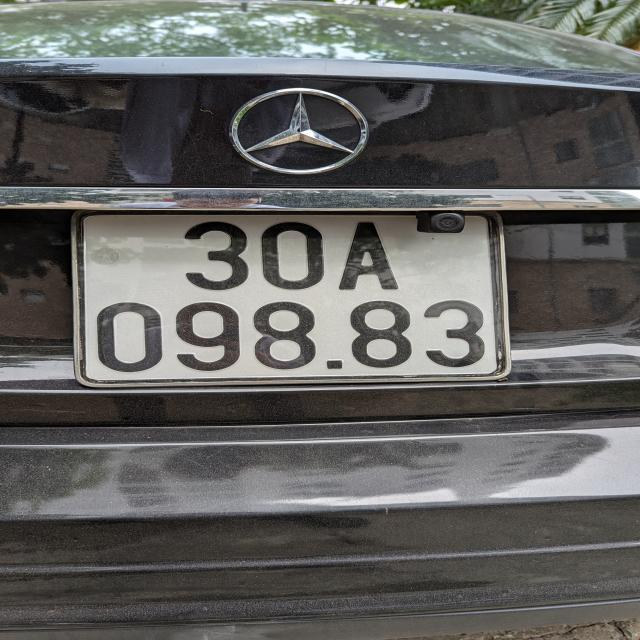License: (70, 208, 512, 388)
